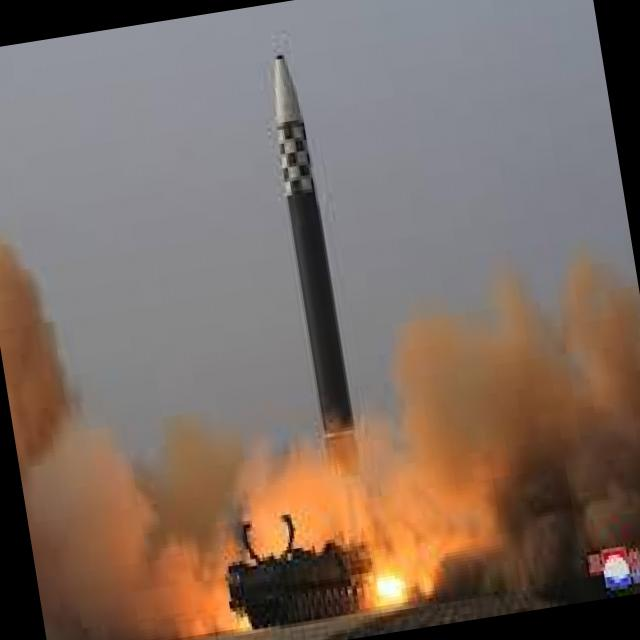rocket: (252, 41, 364, 480)
